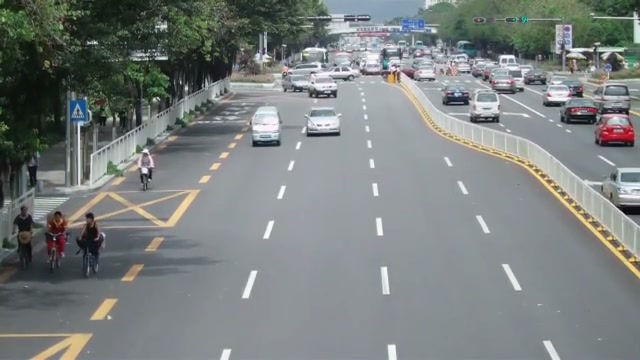car: (601, 167, 640, 211), (593, 115, 636, 147), (250, 106, 282, 146), (283, 64, 323, 92), (303, 107, 341, 136), (469, 89, 500, 123), (560, 98, 599, 124), (307, 72, 339, 98), (542, 85, 572, 107), (489, 69, 516, 93), (442, 86, 470, 105), (326, 67, 357, 80), (414, 65, 436, 82)
pedestrian: (76, 212, 106, 270), (13, 204, 34, 269), (45, 210, 68, 267), (137, 148, 155, 185)
